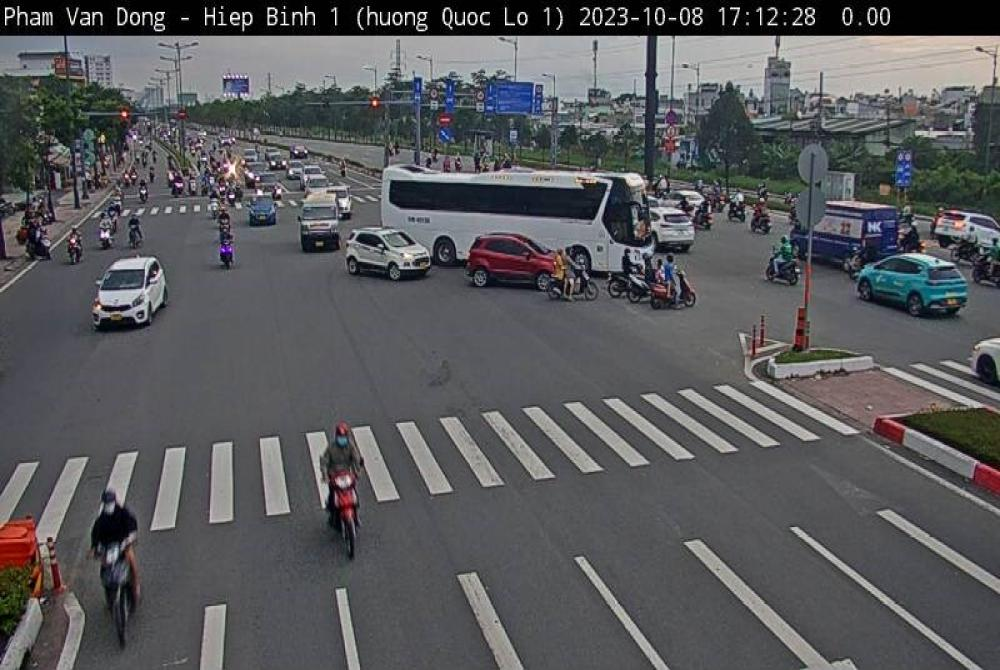bus: (378, 157, 664, 286)
car: (850, 243, 975, 342), (448, 228, 572, 304), (89, 248, 181, 328), (344, 223, 435, 290), (298, 189, 353, 256), (246, 197, 286, 229)
